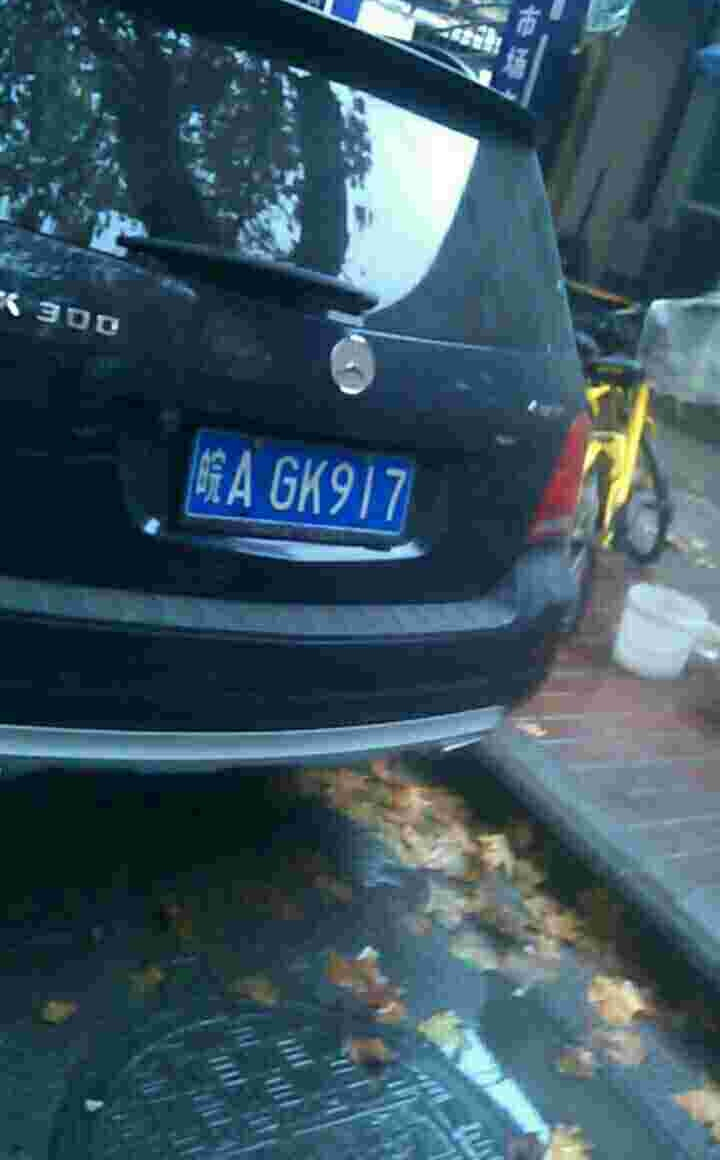license_plate: (169, 431, 424, 545)
